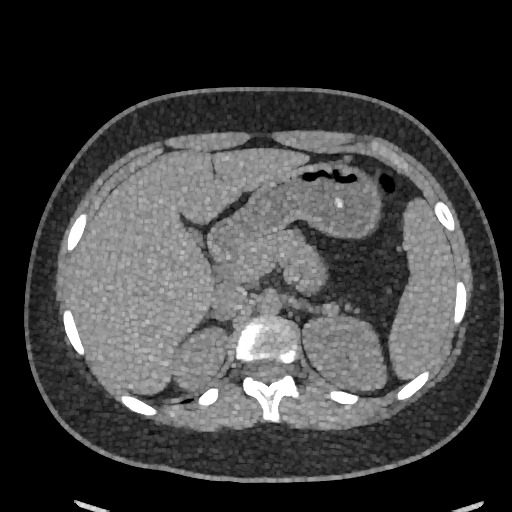Lesion: (319, 299, 341, 324)
